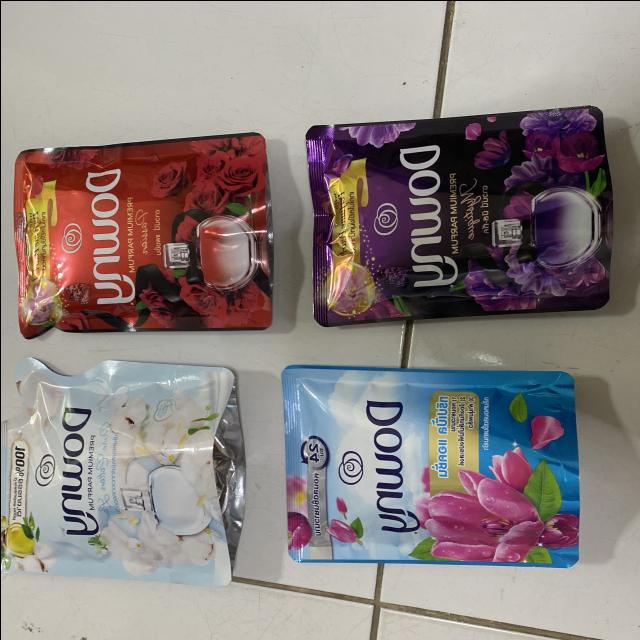plastik: (306, 106, 611, 326), (282, 364, 580, 567), (0, 357, 244, 586), (13, 132, 271, 337)
